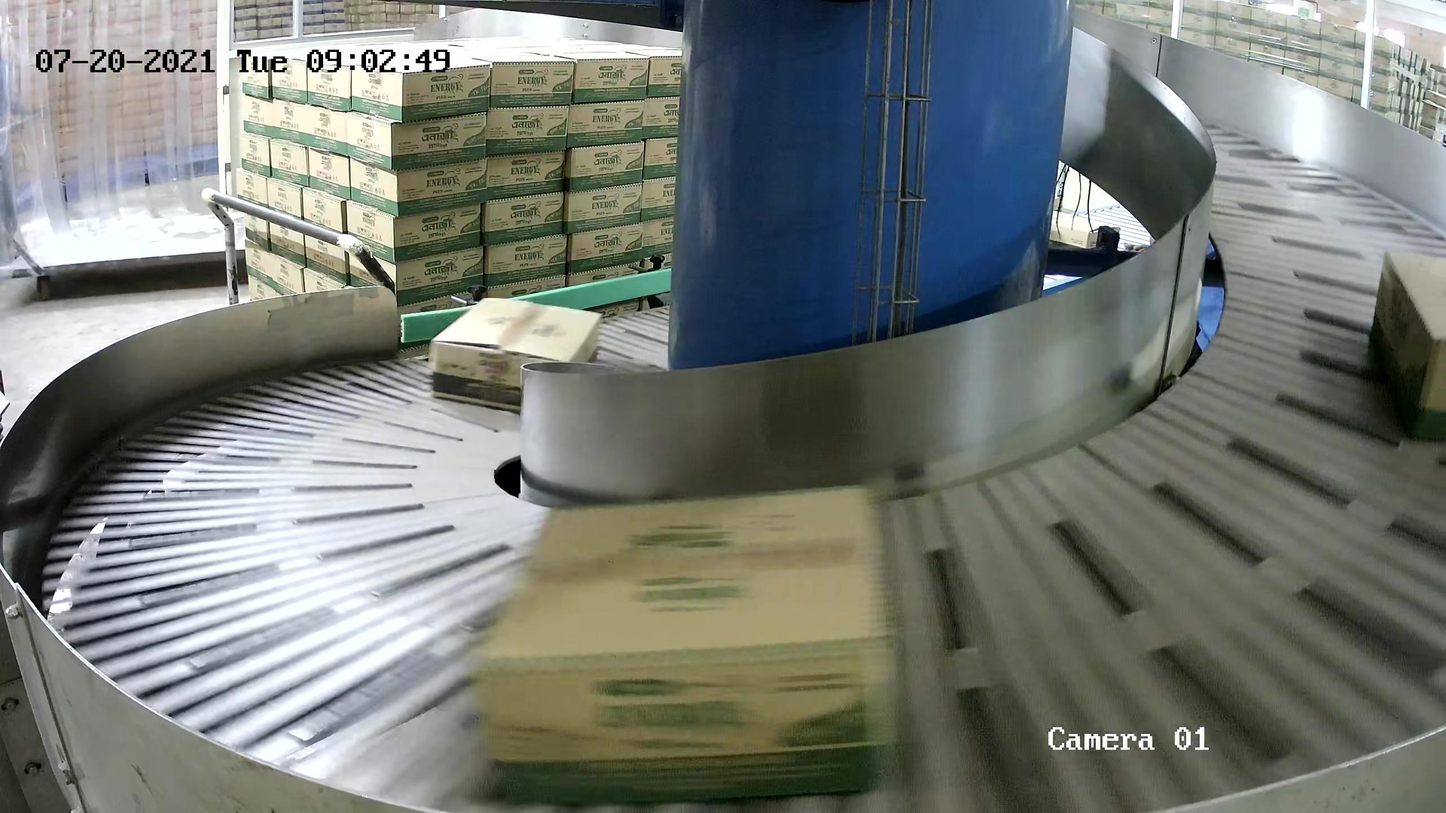Box: (473, 482, 906, 806), (427, 296, 603, 412), (1368, 248, 1446, 441)
